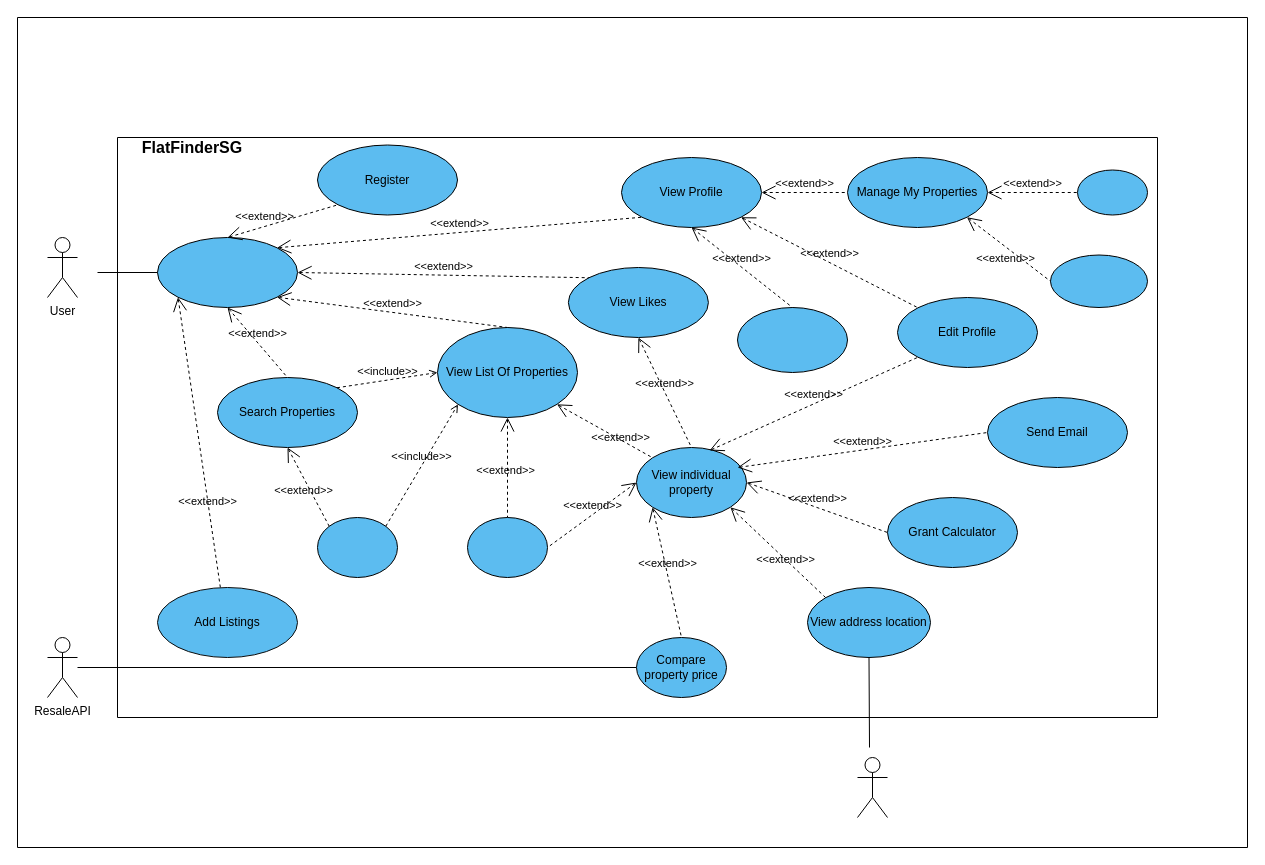
This 1265x865 diagram has some shape labels left out. Here are the shapes that lost their labels. From the top down, the centre of each, then its label:
At [1112,192]: "Edit listing".
At [227,272]: "Login".
At [1099,281]: "Remove listing".
At [792,339]: "Change password".
At [357,547]: "Apply filters".
At [507,547]: "Add to likes".
At [872,787]: "GoogleMapsAPI".
